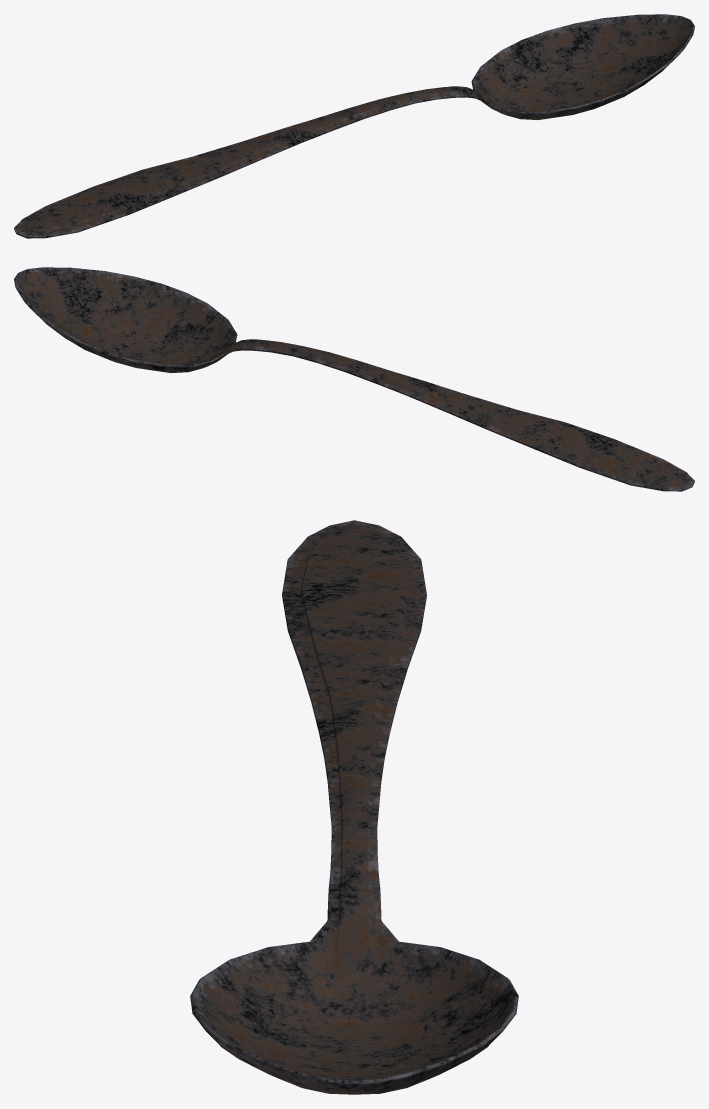
File: spoon.obj
3 views of the same model, one above another, from view 1: azimuth 30°, elevation 25°; view 2: azimuth 150°, elevation 25°; view 3: azimuth 270°, elevation 25° (orthographic). The views are drawn at different scales.
Parts seen in each view (by area): view 1: spoon; view 2: spoon; view 3: spoon.
Part boxes in pixels (box(x1,y1,x2,y2)): spoon: box(14, 14, 694, 238); spoon: box(14, 267, 694, 491); spoon: box(190, 520, 518, 1094).
Size of the model in its own units: 13.76 by 1.02 by 2.9.
1 material, 1 textured.
